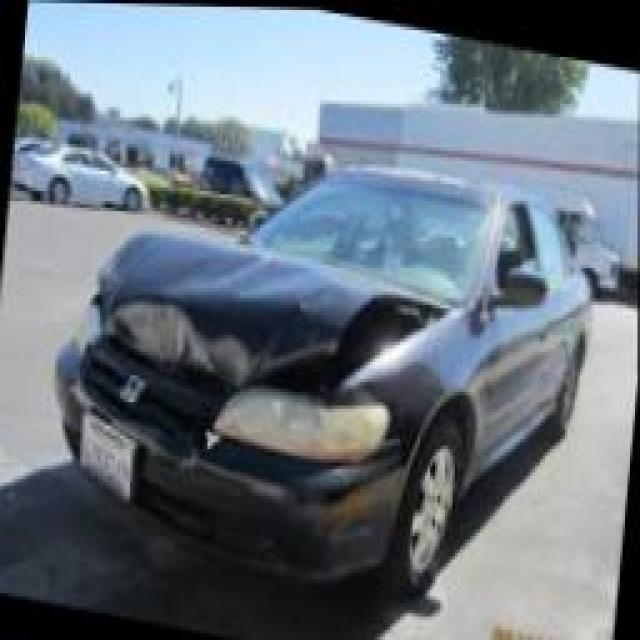Bonnet: (100, 214, 338, 391)
